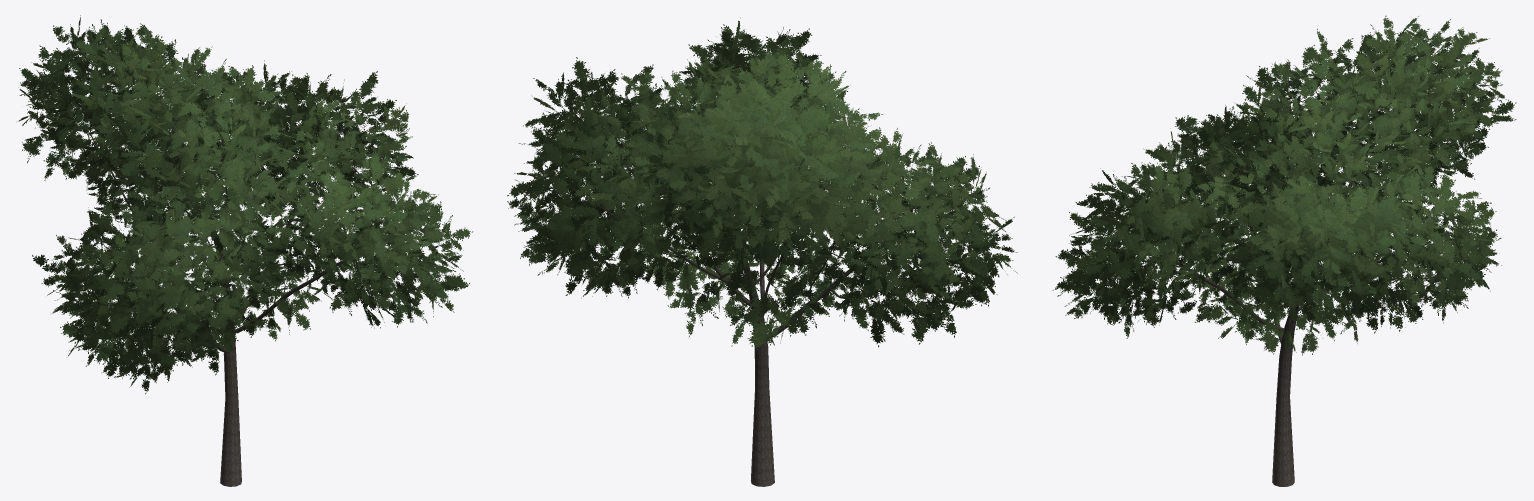
File: hornbeam_a.glb
The picture shows the model from 3 angles, left to right: view 1: azimuth 30°, elevation 25°; view 2: azimuth 150°, elevation 25°; view 3: azimuth 270°, elevation 25°; orthographic projection. The views are drawn at different scales.
Parts seen in each view (by area): view 1: hornbeam_a_lod0; view 2: hornbeam_a_lod0; view 3: hornbeam_a_lod0.
Part boxes in pixels (<box>): hornbeam_a_lod0: <box>18,15,473,486</box>; hornbeam_a_lod0: <box>507,17,1017,486</box>; hornbeam_a_lod0: <box>1052,15,1516,486</box>.
Size of what is drawn, in the model's own units: 16.32 by 16.94 by 16.76.
2 materials, 2 textured.
